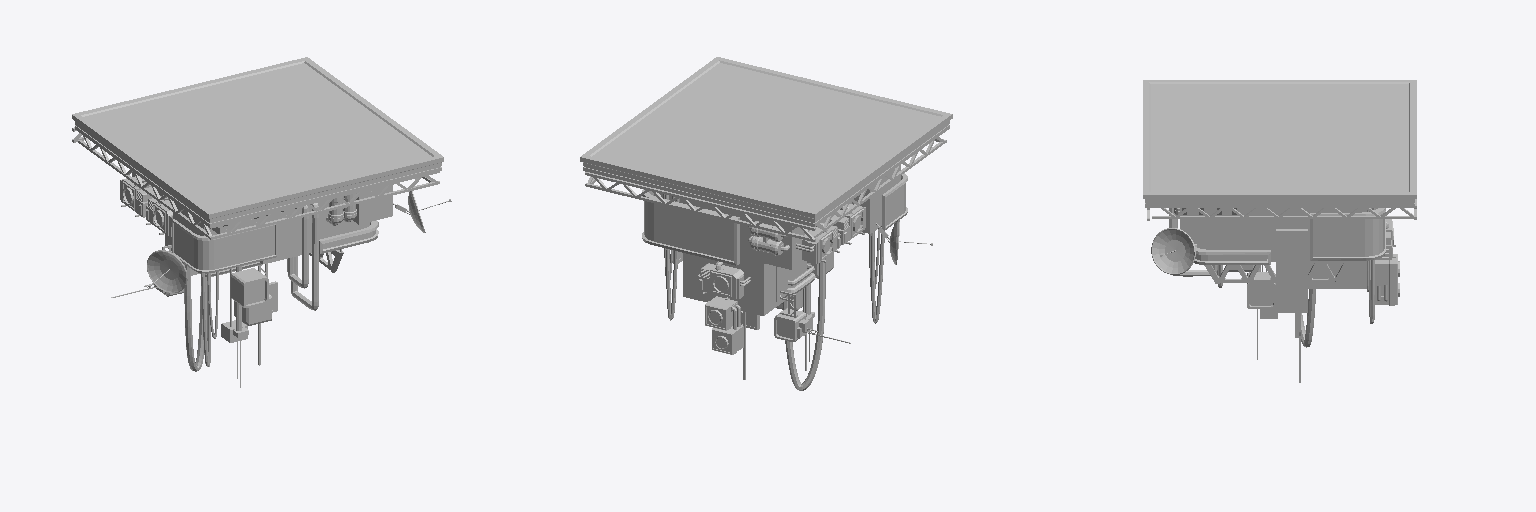
The model's file is Platform_4x4_Cube_001.obj.
3 renders of one model, left to right at view 1: azimuth 30°, elevation 25°; view 2: azimuth 150°, elevation 25°; view 3: azimuth 270°, elevation 25°, orthographic.
Parts seen in each view (by area): view 1: Platform_4x4_Cube.001; view 2: Platform_4x4_Cube.001; view 3: Platform_4x4_Cube.001.
Boxes of the visible parts, <box> form: Platform_4x4_Cube.001: <box>72,57,451,387</box>; Platform_4x4_Cube.001: <box>580,57,952,390</box>; Platform_4x4_Cube.001: <box>1143,80,1416,382</box>.
Size of the model in its own units: 4.47 by 3.76 by 3.9.